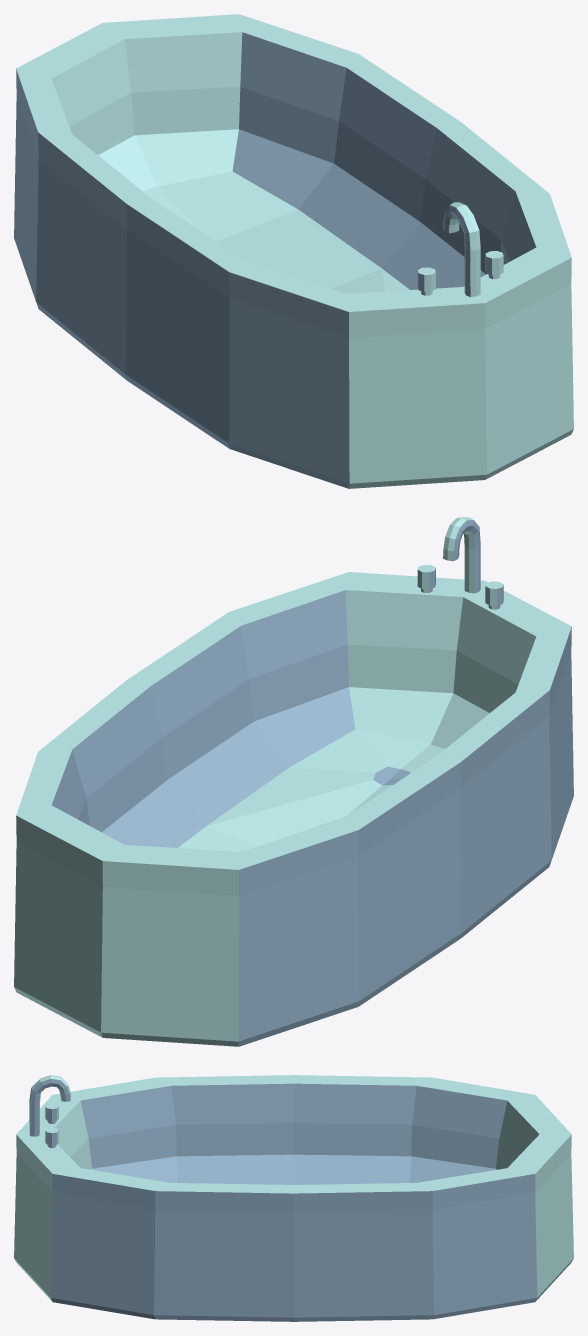
The model's file is Bathtub.fbx.
The picture shows the model from 3 angles, top to bottom: view 1: azimuth 30°, elevation 25°; view 2: azimuth 150°, elevation 25°; view 3: azimuth 270°, elevation 25°; orthographic projection. The views are drawn at different scales.
Visible parts, largest first — view 1: Bathtub; view 2: Bathtub; view 3: Bathtub.
Part boxes in pixels (left/top/right/bottom): Bathtub: left=14, top=14, right=573, bottom=488; Bathtub: left=14, top=517, right=573, bottom=1046; Bathtub: left=14, top=1075, right=573, bottom=1321.
Size of the model in its own units: 253 by 185 by 503.
